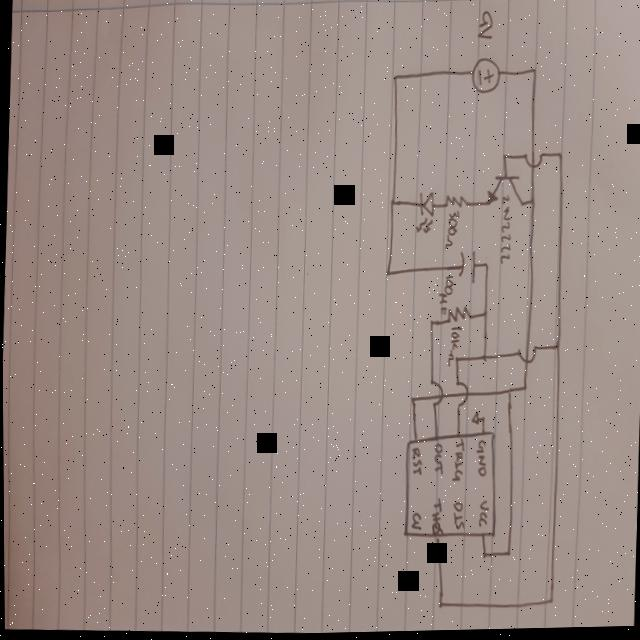capacitor: (454, 250, 477, 288)
crossover: (514, 344, 537, 368), (427, 380, 442, 411), (452, 382, 467, 412), (521, 153, 544, 172)
diode: (411, 192, 435, 237)
ground: (469, 413, 478, 427)
junction: (384, 269, 391, 279), (480, 552, 486, 562), (427, 320, 433, 330), (407, 396, 414, 404), (480, 355, 486, 364), (453, 356, 458, 366), (504, 550, 510, 558), (481, 312, 487, 320), (435, 603, 441, 611), (388, 200, 394, 208), (520, 386, 526, 393), (554, 344, 559, 352), (556, 153, 561, 161), (479, 417, 484, 425), (547, 600, 553, 606), (531, 69, 536, 76), (505, 390, 510, 396), (483, 264, 487, 270), (501, 156, 505, 162), (392, 76, 396, 82), (529, 201, 533, 206)
resistor: (440, 305, 473, 331), (440, 194, 469, 213)
source: (468, 57, 500, 98)
text: (495, 196, 511, 268), (435, 275, 452, 317), (443, 211, 459, 253), (473, 11, 494, 43), (449, 439, 463, 483), (473, 441, 486, 479), (429, 499, 442, 537), (446, 326, 462, 353), (450, 502, 463, 532), (475, 501, 488, 530), (431, 444, 442, 477), (409, 448, 421, 477), (408, 513, 420, 532)
transistor: (484, 175, 523, 211)
